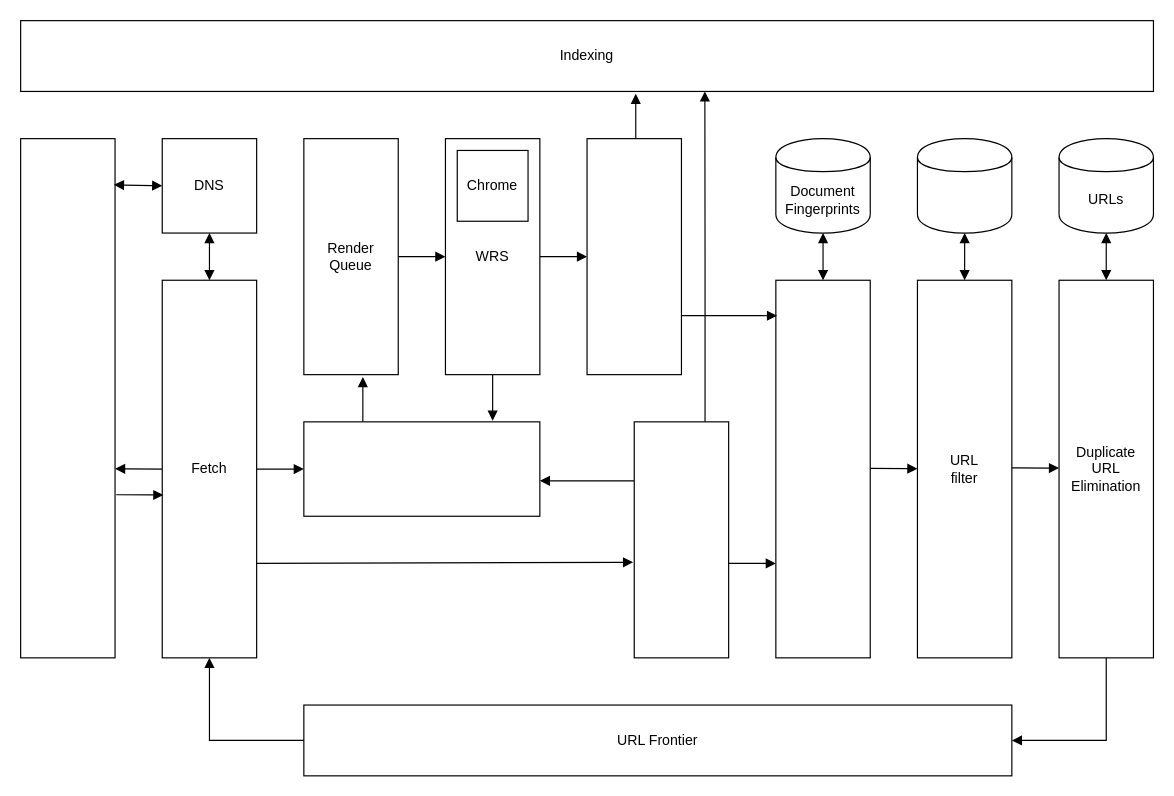
The diagram is 1174 pixels wide and 796 high, and some of its shapes have lost their labels. Each missing label, with the box of its shape:
Content: (775, 279, 870, 658)
Parse DOM: (586, 137, 681, 375)
Parse HTML: (633, 421, 729, 658)
Render Cache and Prioritization: (303, 421, 540, 516)
Robots filters: (916, 137, 1012, 233)
Web: (19, 137, 115, 658)
